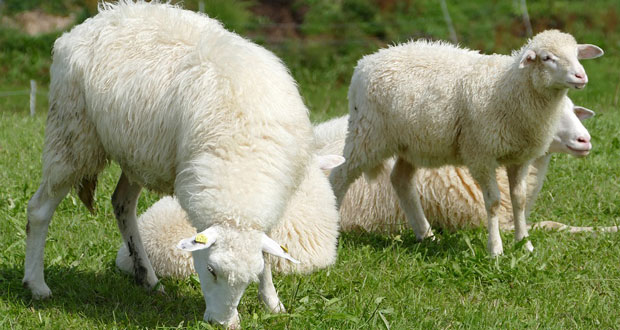sheep: (24, 3, 325, 330), (354, 5, 557, 276), (303, 89, 617, 262), (117, 133, 349, 287)
